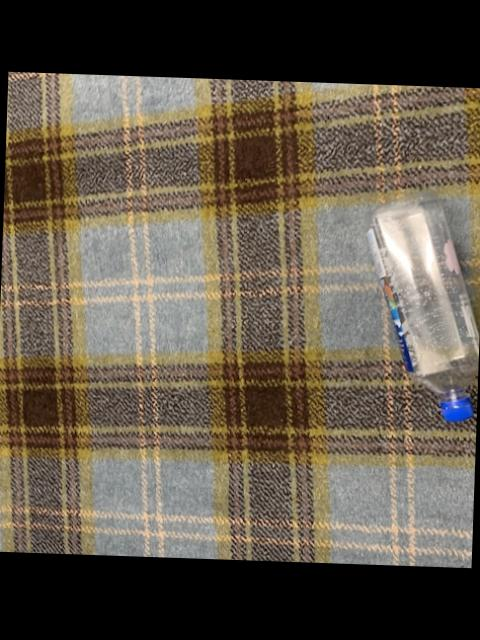plastic: (366, 192, 479, 420)
